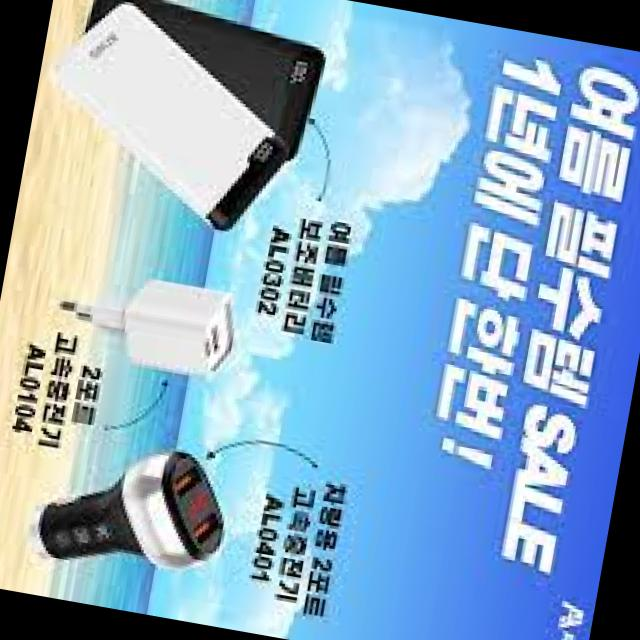power_bank: (40, 0, 320, 245), (57, 0, 330, 163)
